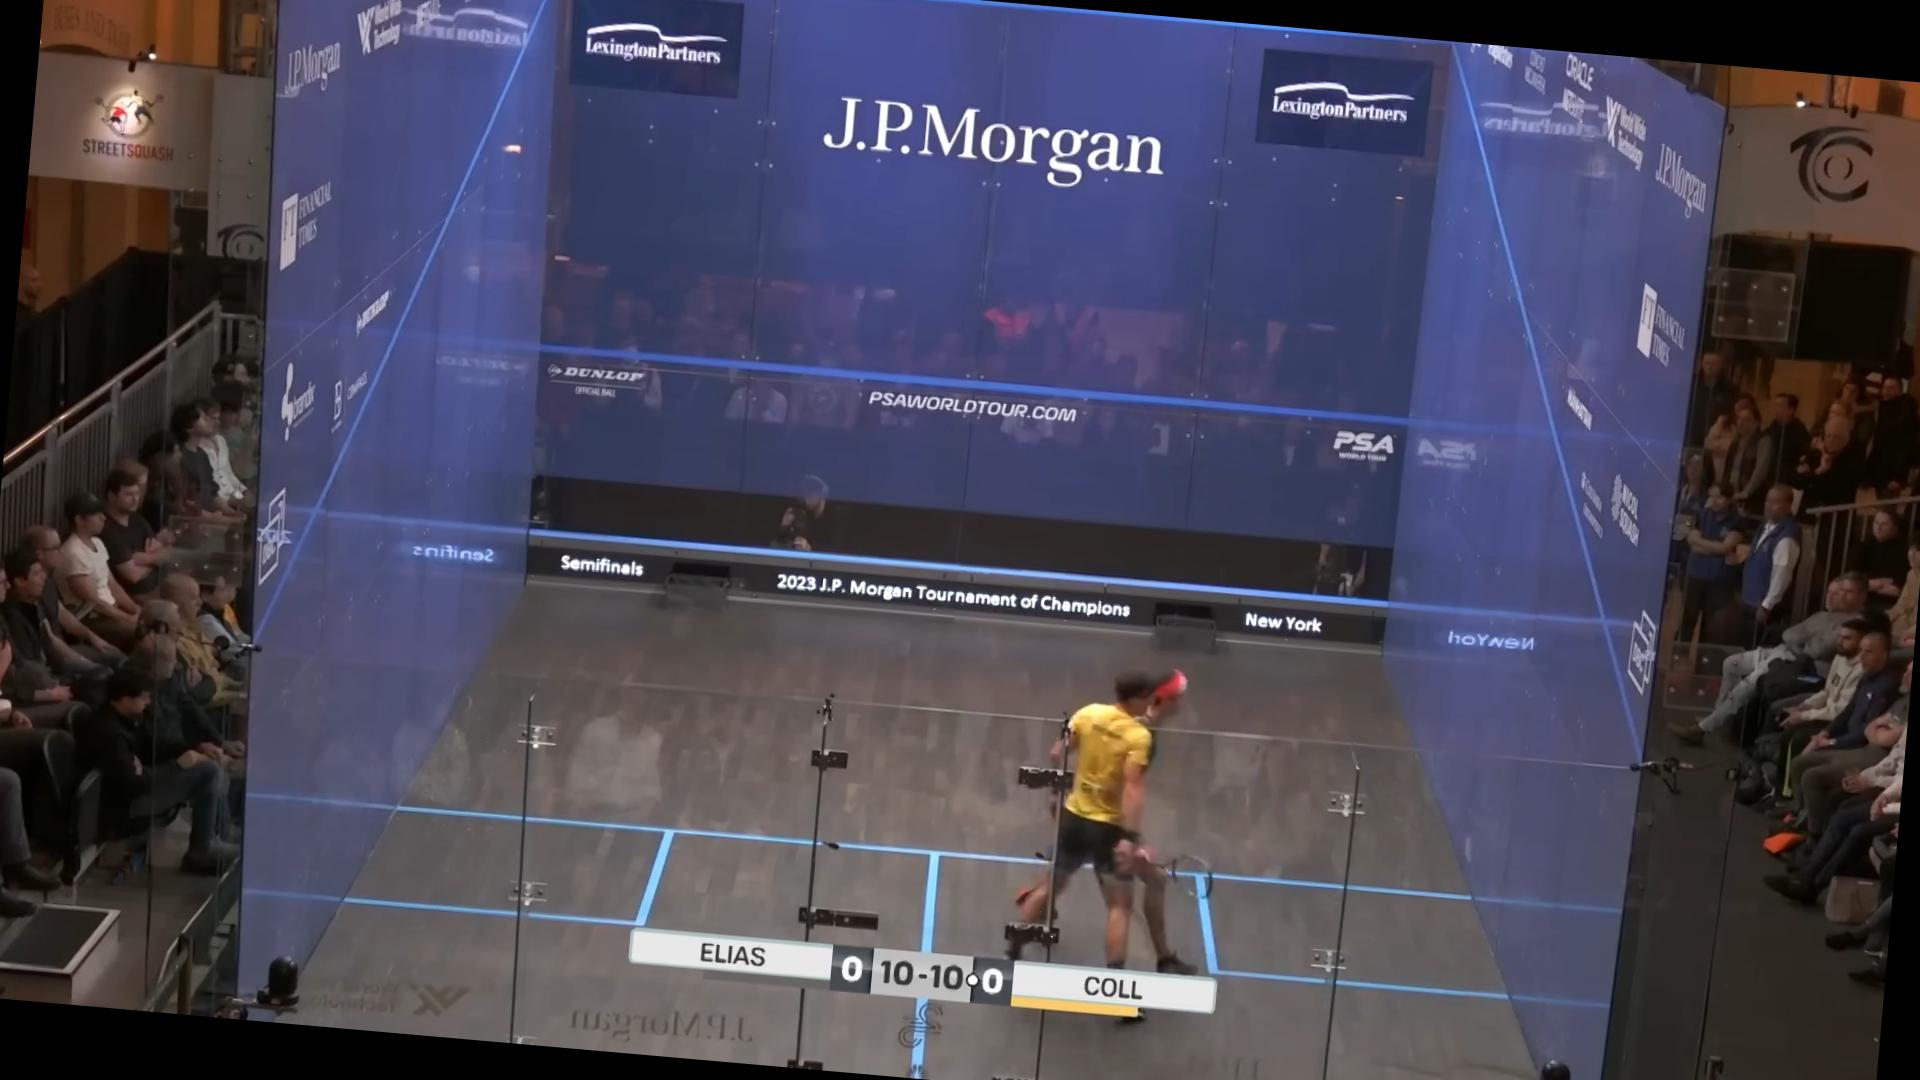Racket: (1149, 840, 1225, 907)
